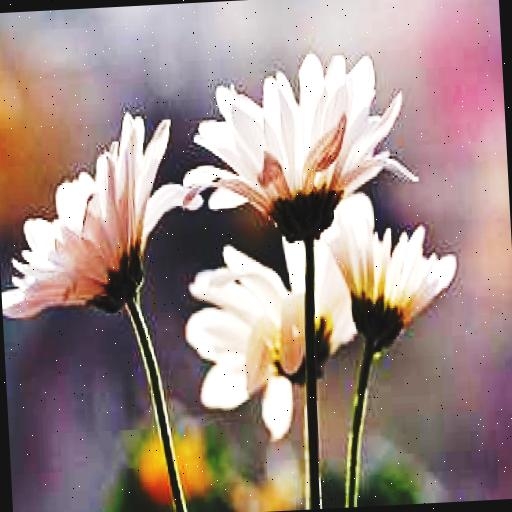daisy: (0, 108, 183, 351), (178, 54, 420, 236), (185, 245, 307, 441), (326, 211, 457, 340)
